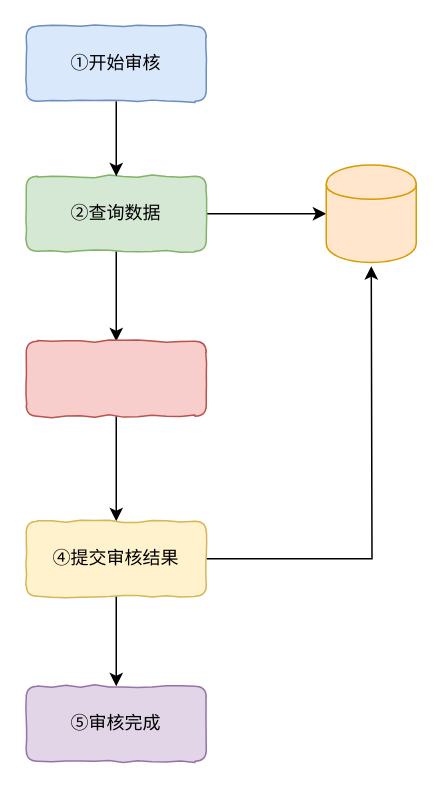
Some shapes in this 443 by 788 pixel diagram are drawn without their labels. Here are the shapes that lost their labels. From the top down, the box of each, then its label:
(325, 164, 416, 262): 数据库
(25, 340, 206, 416): ③审核业务
